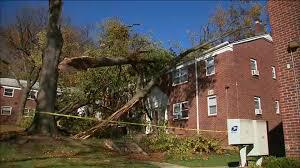major: (88, 40, 288, 150)
